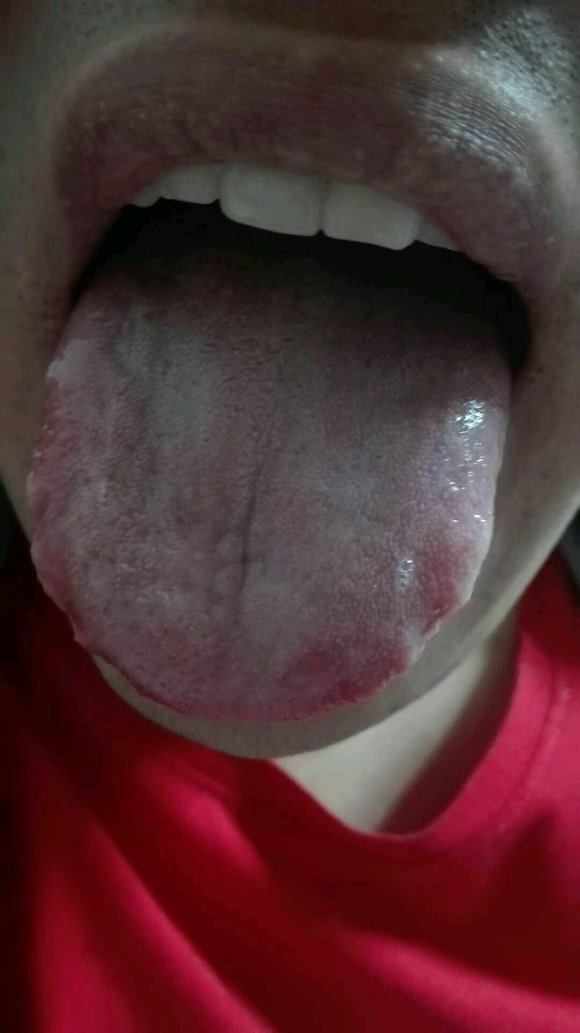baitaishe: (24, 232, 509, 723)
chihenshe: (27, 522, 139, 689)
huataishe: (391, 381, 488, 605)
liewenshe: (231, 460, 269, 632)
